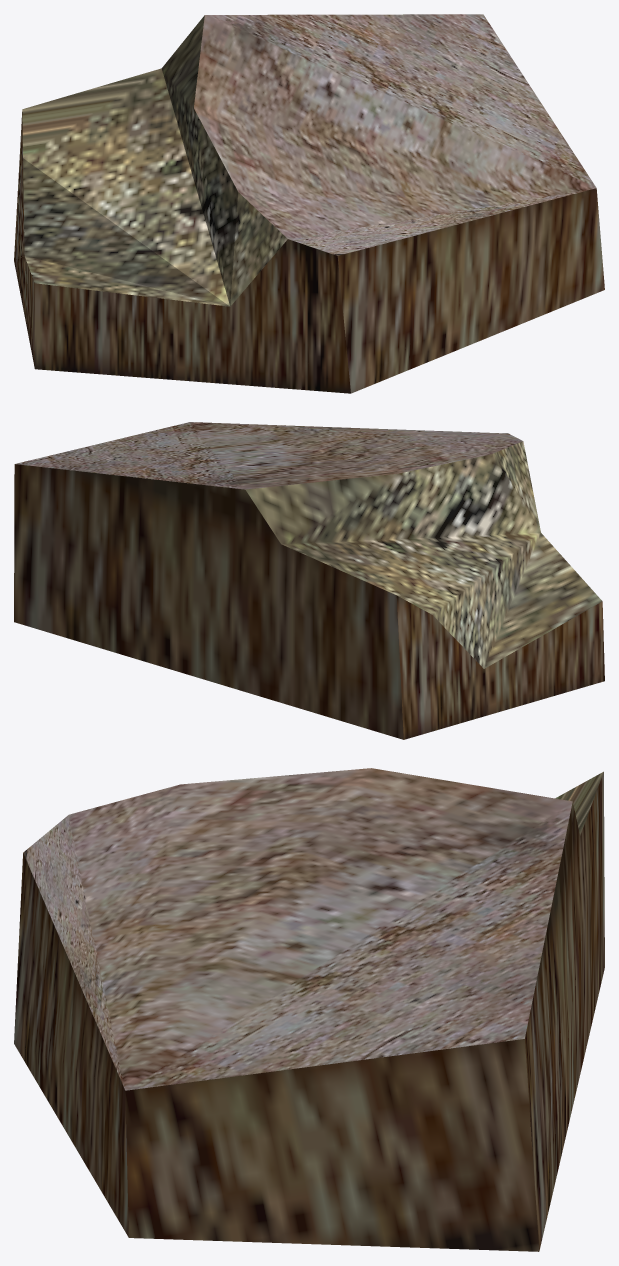
The model's file is small_rubble_var1.fbx.
3 views of the same model, one above another, from view 1: azimuth 30°, elevation 25°; view 2: azimuth 150°, elevation 25°; view 3: azimuth 270°, elevation 25° (orthographic). The views are drawn at different scales.
Parts seen in each view (by area): view 1: mesh_1, mesh_2, mesh_0; view 2: mesh_2, mesh_0, mesh_1; view 3: mesh_1, mesh_2, mesh_0.
Part boxes in pixels (box(x1,y1,x2,y2)): mesh_1: box(194, 14, 596, 255); mesh_2: box(14, 112, 604, 393); mesh_0: box(22, 15, 287, 306); mesh_2: box(14, 464, 604, 739); mesh_0: box(245, 441, 602, 668); mesh_1: box(15, 422, 522, 489); mesh_1: box(23, 768, 572, 1090); mesh_2: box(14, 772, 604, 1251); mesh_0: box(555, 772, 603, 835).
Size of the model in its own units: 26.31 by 9.92 by 18.77.
Materials: 3 (3 with a texture image).
